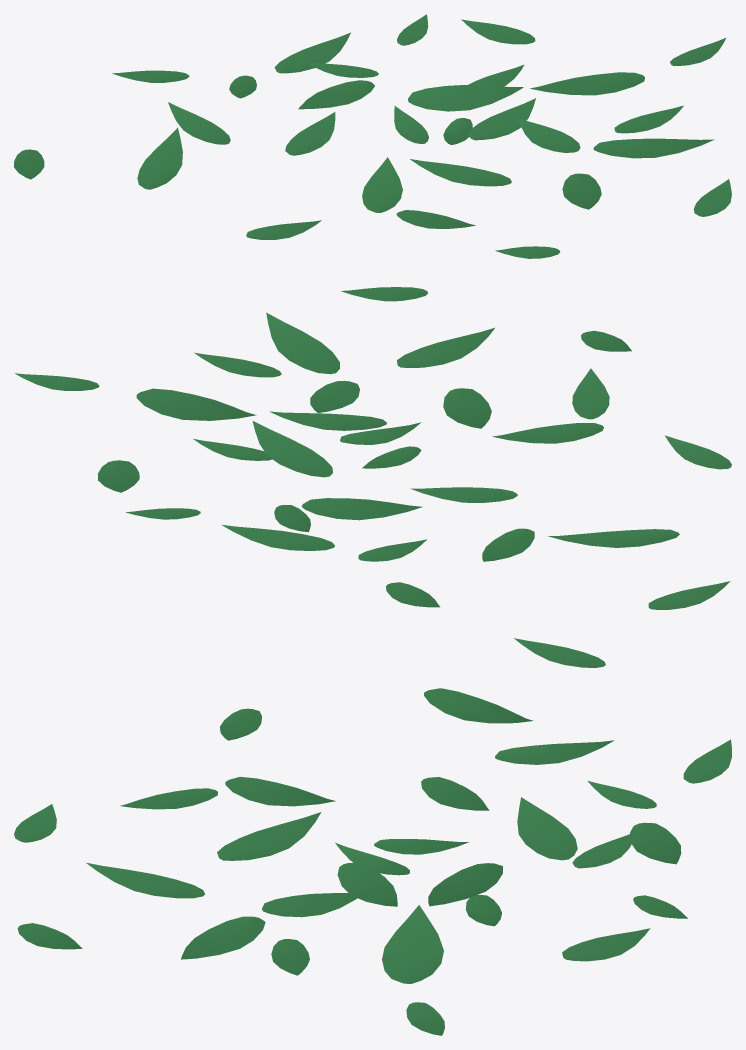
File: leaves_ground_scanden_A.fbx
3 views of the same model, one above another, from view 1: azimuth 30°, elevation 25°; view 2: azimuth 150°, elevation 25°; view 3: azimuth 270°, elevation 25° (orthographic). The views are drawn at different scales.
Visible parts, largest first — view 1: leaf_scanden_ground_A5, leaf_scanden_ground_A1, leaf_scanden_ground_A9, leaf_scanden_ground_A26, leaf_scanden_ground_A17, leaf_scanden_ground_A4, leaf_scanden_ground_A18, leaf_scanden_ground_A, leaf_scanden_ground_A23, leaf_scanden_ground_A14, leaf_scanden_ground_A8, leaf_scanden_ground_A22 (+16 smaller); view 2: leaf_scanden_ground_A9, leaf_scanden_ground_A1, leaf_scanden_ground_A5, leaf_scanden_ground_A23, leaf_scanden_ground_A2, leaf_scanden_ground_A26, leaf_scanden_ground_A18, leaf_scanden_ground_A17, leaf_scanden_ground_A4, leaf_scanden_ground_A, leaf_scanden_ground_A12, leaf_scanden_ground_A8 (+16 smaller); view 3: leaf_scanden_ground_A9, leaf_scanden_ground_A23, leaf_scanden_ground_A4, leaf_scanden_ground_A1, leaf_scanden_ground_A26, leaf_scanden_ground_A5, leaf_scanden_ground_A17, leaf_scanden_ground_A2, leaf_scanden_ground_A14, leaf_scanden_ground_A, leaf_scanden_ground_A22, leaf_scanden_ground_A24 (+16 smaller).
Part boxes in pixels (bbox=[...]): leaf_scanden_ground_A5: bbox=[408, 85, 523, 111]; leaf_scanden_ground_A1: bbox=[593, 138, 714, 158]; leaf_scanden_ground_A9: bbox=[530, 72, 644, 95]; leaf_scanden_ground_A26: bbox=[137, 127, 182, 189]; leaf_scanden_ground_A17: bbox=[362, 157, 402, 212]; leaf_scanden_ground_A4: bbox=[410, 159, 511, 186]; leaf_scanden_ground_A18: bbox=[274, 32, 350, 73]; leaf_scanden_ground_A: bbox=[467, 98, 535, 140]; leaf_scanden_ground_A23: bbox=[298, 80, 374, 109]; leaf_scanden_ground_A14: bbox=[168, 102, 230, 144]; leaf_scanden_ground_A8: bbox=[285, 112, 335, 155]; leaf_scanden_ground_A22: bbox=[517, 118, 580, 152]; leaf_scanden_ground_A9: bbox=[136, 388, 256, 420]; leaf_scanden_ground_A1: bbox=[266, 312, 339, 374]; leaf_scanden_ground_A5: bbox=[252, 421, 332, 477]; leaf_scanden_ground_A23: bbox=[301, 498, 422, 520]; leaf_scanden_ground_A2: bbox=[397, 328, 494, 367]; leaf_scanden_ground_A26: bbox=[548, 529, 679, 547]; leaf_scanden_ground_A18: bbox=[221, 524, 334, 550]; leaf_scanden_ground_A17: bbox=[492, 423, 603, 443]; leaf_scanden_ground_A4: bbox=[443, 388, 491, 428]; leaf_scanden_ground_A: bbox=[270, 411, 386, 430]; leaf_scanden_ground_A12: bbox=[572, 368, 609, 419]; leaf_scanden_ground_A8: bbox=[410, 487, 517, 502]; leaf_scanden_ground_A9: bbox=[382, 905, 443, 983]; leaf_scanden_ground_A23: bbox=[517, 797, 577, 860]; leaf_scanden_ground_A4: bbox=[217, 812, 321, 860]; leaf_scanden_ground_A1: bbox=[181, 916, 265, 959]; leaf_scanden_ground_A26: bbox=[424, 688, 533, 723]; leaf_scanden_ground_A5: bbox=[428, 863, 502, 906]; leaf_scanden_ground_A17: bbox=[225, 776, 335, 806]; leaf_scanden_ground_A2: bbox=[86, 862, 205, 898]; leaf_scanden_ground_A14: bbox=[495, 740, 614, 764]; leaf_scanden_ground_A: bbox=[337, 862, 397, 906]; leaf_scanden_ground_A22: bbox=[262, 892, 365, 917]; leaf_scanden_ground_A24: bbox=[562, 928, 650, 961].
Size of the model in its own units: 199 by 4.22 by 151.
